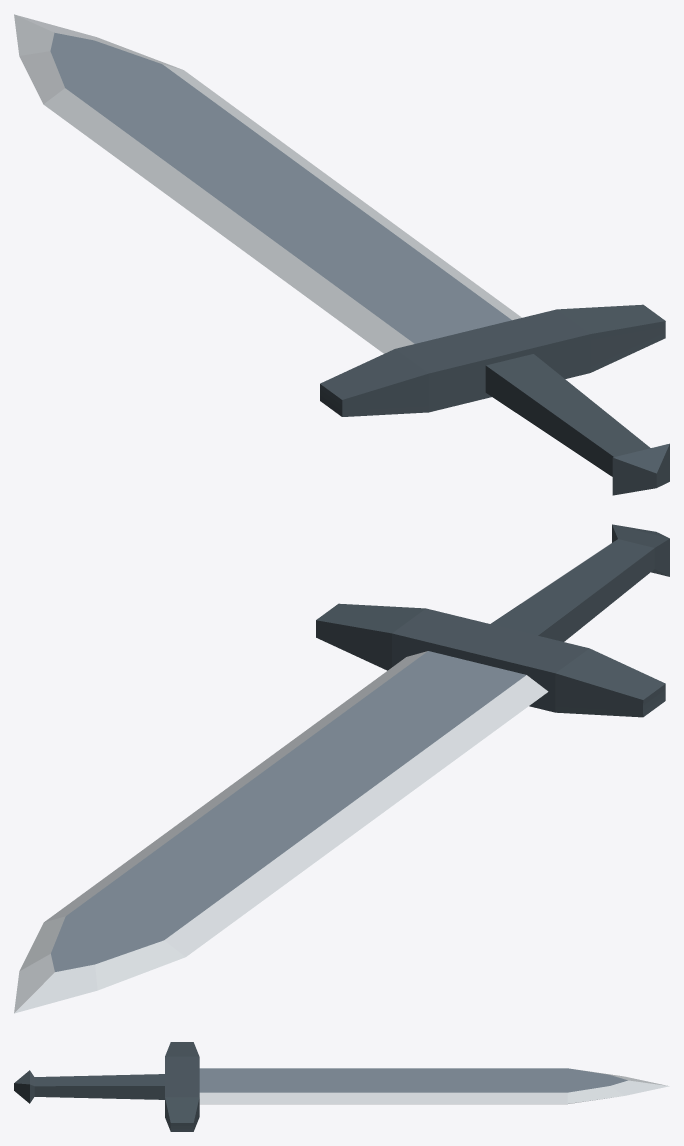
The model's file is sword02.glb.
3 renders of one model, top to bottom at view 1: azimuth 30°, elevation 25°; view 2: azimuth 150°, elevation 25°; view 3: azimuth 270°, elevation 25°, orthographic. The views are drawn at different scales.
Parts seen in each view (by area): view 1: Cube, handle; view 2: Cube, handle; view 3: Cube, handle.
Boxes of the visible parts, bbox=[...] form: Cube: bbox=[14, 14, 521, 353]; handle: bbox=[320, 304, 669, 495]; Cube: bbox=[14, 651, 548, 1013]; handle: bbox=[316, 524, 669, 717]; Cube: bbox=[199, 1068, 669, 1104]; handle: bbox=[14, 1042, 199, 1131].
Size of the model in its own units: 3.15 by 0.3621 by 10.77.
Materials: 2 (2 with a texture image).
